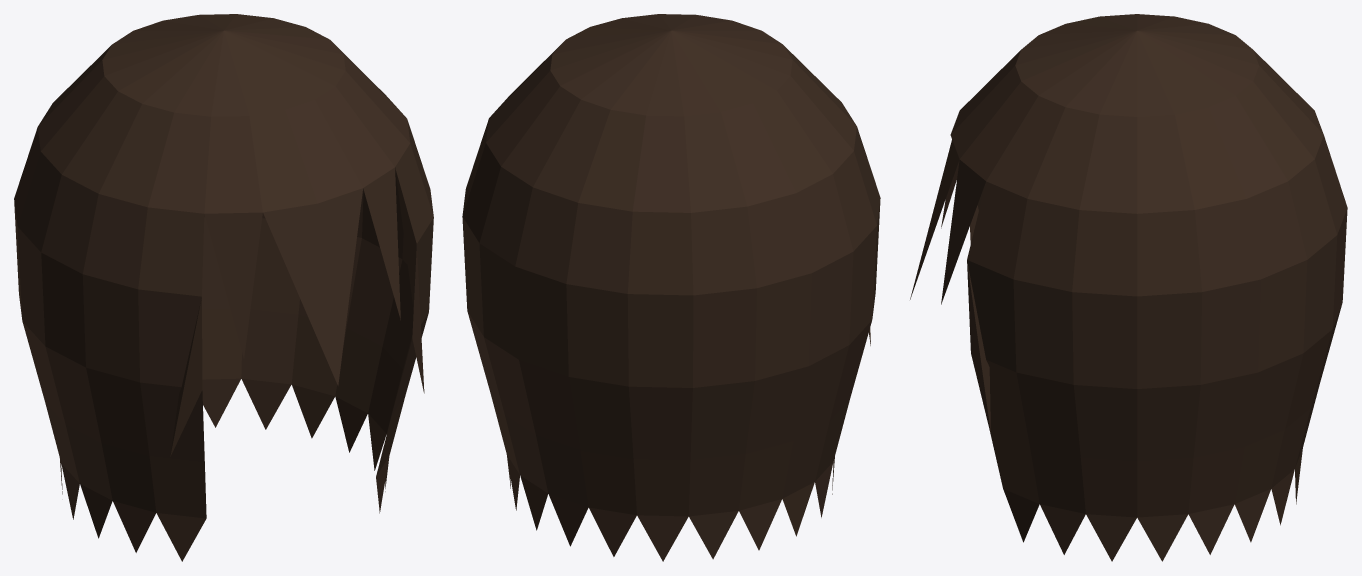
The model's file is hair_long.glb.
The picture shows the model from 3 angles, left to right: view 1: azimuth 30°, elevation 25°; view 2: azimuth 150°, elevation 25°; view 3: azimuth 270°, elevation 25°; orthographic projection.
Visible parts, largest first — view 1: hair; view 2: hair; view 3: hair.
Part boxes in pixels (bbox=[...]): hair: bbox=[14, 14, 433, 561]; hair: bbox=[462, 14, 880, 561]; hair: bbox=[910, 14, 1347, 561].
Bounding box in the file's own units: 0.604 × 0.735 × 0.629.
